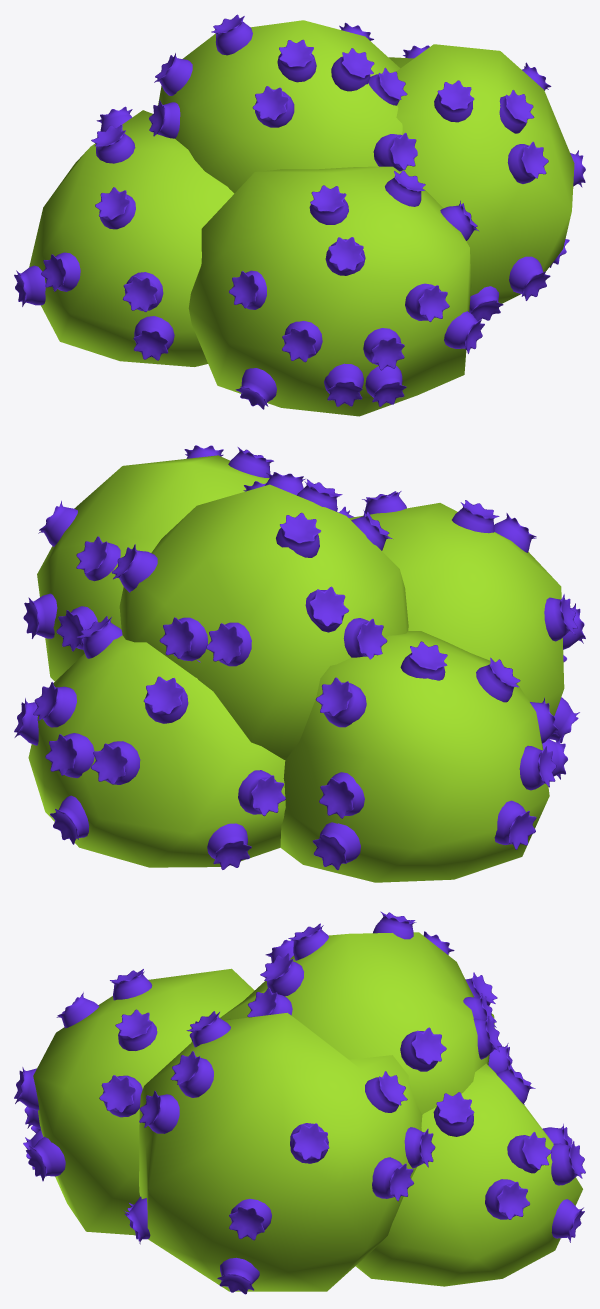
Rendered from object_landscape_plant_berry_bush_large.glb.
3 renders of one model, top to bottom at view 1: azimuth 30°, elevation 25°; view 2: azimuth 150°, elevation 25°; view 3: azimuth 270°, elevation 25°, orthographic. The views are drawn at different scales.
Visible parts, largest first — view 1: object_landscape_plant_berry_bush_large; view 2: object_landscape_plant_berry_bush_large; view 3: object_landscape_plant_berry_bush_large.
Part boxes in pixels (x1,y1,x2,y2): object_landscape_plant_berry_bush_large: (14, 14, 585, 416); object_landscape_plant_berry_bush_large: (14, 445, 585, 882); object_landscape_plant_berry_bush_large: (14, 911, 585, 1294).
Size of the model in its own units: 0.4383 by 0.2329 by 0.4264.
